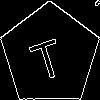T: (25, 30, 67, 83)
